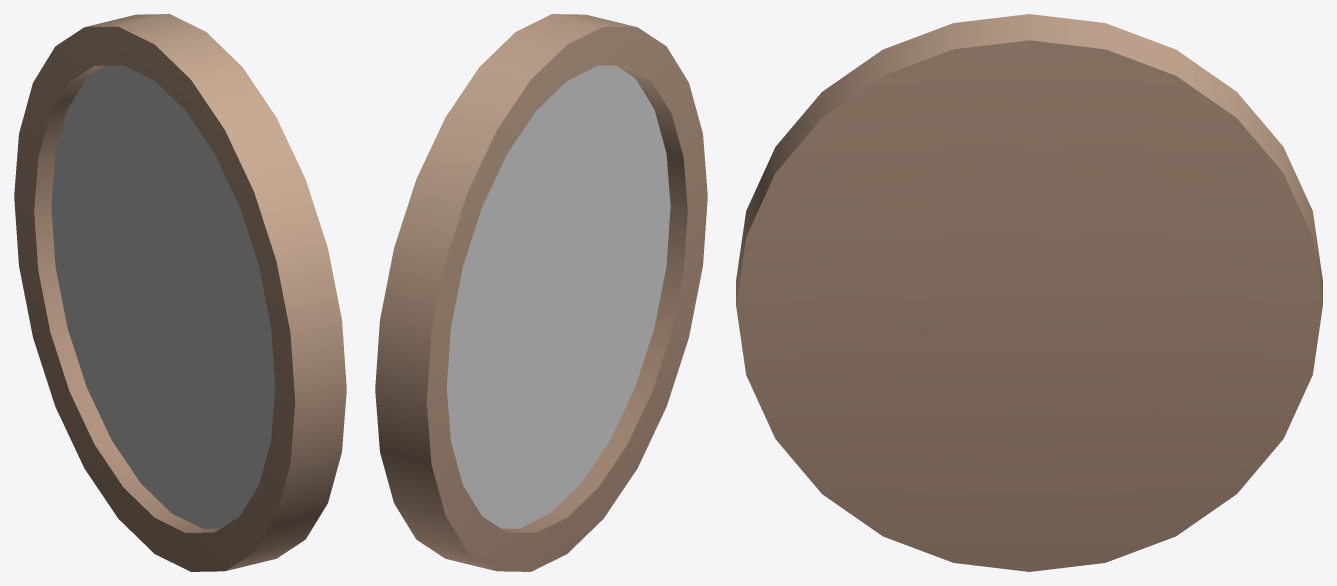
Rendered from mirror-round-bevel-large (%wall) (%thumbnail).glb.
The picture shows the model from 3 angles, left to right: view 1: azimuth 30°, elevation 25°; view 2: azimuth 150°, elevation 25°; view 3: azimuth 270°, elevation 25°; orthographic projection. The views are drawn at different scales.
Visible parts, largest first — view 1: mirror-round-bevel-large (%wall) (%thumbnail); view 2: mirror-round-bevel-large (%wall) (%thumbnail); view 3: mirror-round-bevel-large (%wall) (%thumbnail).
Boxes of the visible parts, bbox=[...] form: mirror-round-bevel-large (%wall) (%thumbnail): bbox=[14, 14, 346, 571]; mirror-round-bevel-large (%wall) (%thumbnail): bbox=[375, 14, 707, 571]; mirror-round-bevel-large (%wall) (%thumbnail): bbox=[736, 14, 1322, 571].
Bounding box in the file's own units: 0.075 × 0.708 × 0.708.
